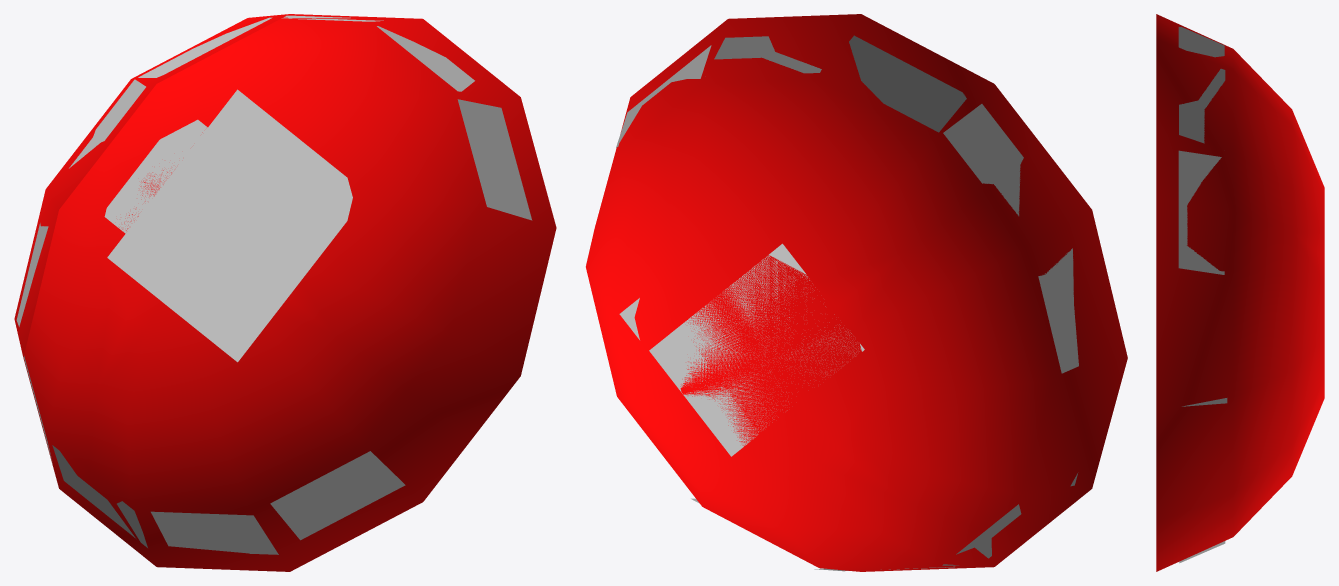
The model's file is model_scale.obj.
3 views of the same model, side by side, from view 1: azimuth 30°, elevation 25°; view 2: azimuth 150°, elevation 25°; view 3: azimuth 270°, elevation 25° (orthographic). The views are drawn at different scales.
Visible parts, largest first — view 1: mesh1_mesh1-geometry, mesh2_mesh2-geometry, mesh12_mesh12-geometry, mesh13_mesh13-geometry, mesh8_mesh8-geometry, mesh7_mesh7-geometry, mesh5_mesh5-geometry, mesh11_mesh11-geometry, mesh6_mesh6-geometry, mesh10_mesh10-geometry, mesh3_mesh3-geometry; view 2: mesh1_mesh1-geometry, mesh7_mesh7-geometry, mesh10_mesh10-geometry, mesh6_mesh6-geometry, mesh3_mesh3-geometry, mesh9_mesh9-geometry, mesh11_mesh11-geometry, mesh5_mesh5-geometry; view 3: mesh1_mesh1-geometry, mesh11_mesh11-geometry, mesh9_mesh9-geometry, mesh10_mesh10-geometry.
Boxes of the visible parts, x1,y1,x2,y2 form: mesh1_mesh1-geometry: (14, 14, 556, 571); mesh2_mesh2-geometry: (107, 89, 352, 362); mesh12_mesh12-geometry: (270, 451, 405, 540); mesh13_mesh13-geometry: (457, 99, 532, 220); mesh8_mesh8-geometry: (151, 511, 278, 554); mesh7_mesh7-geometry: (104, 119, 207, 233); mesh5_mesh5-geometry: (52, 445, 147, 547); mesh11_mesh11-geometry: (377, 26, 474, 91); mesh6_mesh6-geometry: (69, 79, 145, 168); mesh10_mesh10-geometry: (138, 17, 272, 77); mesh3_mesh3-geometry: (16, 223, 48, 326); mesh1_mesh1-geometry: (586, 14, 1127, 571); mesh7_mesh7-geometry: (649, 243, 864, 456); mesh10_mesh10-geometry: (849, 35, 966, 132); mesh6_mesh6-geometry: (943, 104, 1023, 216); mesh3_mesh3-geometry: (1038, 248, 1078, 373); mesh9_mesh9-geometry: (705, 36, 821, 76); mesh11_mesh11-geometry: (616, 45, 711, 147); mesh5_mesh5-geometry: (942, 504, 1021, 565); mesh1_mesh1-geometry: (1156, 14, 1324, 571); mesh11_mesh11-geometry: (1178, 150, 1224, 274); mesh9_mesh9-geometry: (1179, 68, 1225, 143); mesh10_mesh10-geometry: (1178, 27, 1224, 57).
Size of the model in its own units: 0.1511 by 0.1511 by 0.0453.
